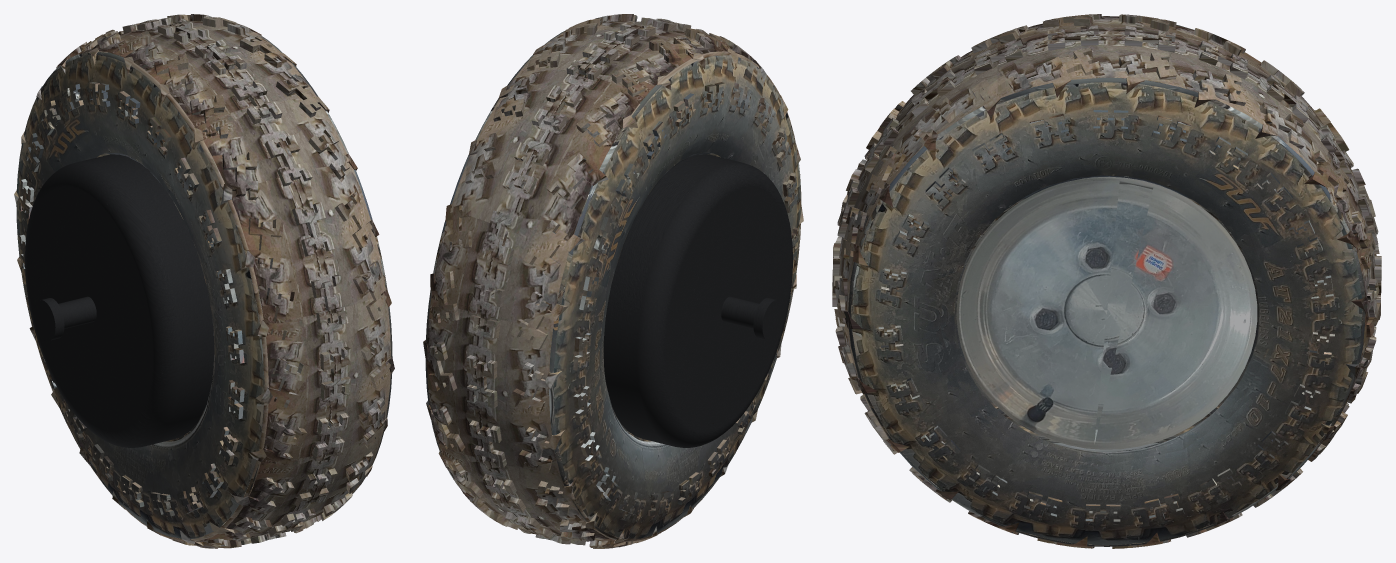
The model's file is rueda_atras_izq.fbx.
The picture shows the model from 3 angles, left to right: view 1: azimuth 30°, elevation 25°; view 2: azimuth 150°, elevation 25°; view 3: azimuth 270°, elevation 25°; orthographic projection. The views are drawn at different scales.
Visible parts, largest first — view 1: Neumático-4, unión-con-ruedas - copia (2)-2; view 2: Neumático-4, unión-con-ruedas - copia (2)-2; view 3: Neumático-4, Rueda - Llanta-1.
Boxes of the visible parts, <box> form: Neumático-4: <box>14,14,394,548</box>; unión-con-ruedas - copia (2)-2: <box>25,154,214,447</box>; Neumático-4: <box>423,14,803,548</box>; unión-con-ruedas - copia (2)-2: <box>603,154,792,447</box>; Neumático-4: <box>832,14,1381,548</box>; Rueda - Llanta-1: <box>956,176,1257,449</box>.
Size of the model in its own units: 26.07 by 51.19 by 51.07.
